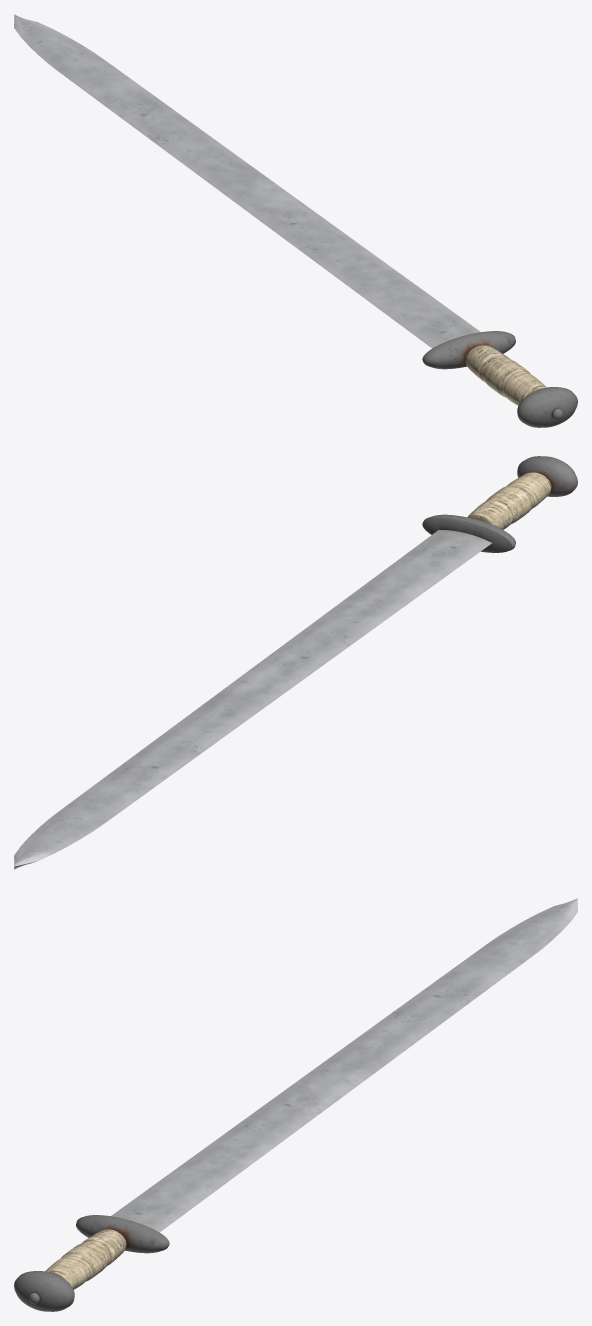
Rendered from spatha.glb.
The picture shows the model from 3 angles, top to bottom: view 1: azimuth 30°, elevation 25°; view 2: azimuth 150°, elevation 25°; view 3: azimuth 330°, elevation 25°; orthographic projection.
Visible parts, largest first — view 1: spatha; view 2: spatha; view 3: spatha.
Boxes of the visible parts, x1,y1,x2,y2 form: spatha: [14, 14, 577, 427]; spatha: [14, 456, 577, 869]; spatha: [14, 898, 577, 1311].
Bounding box in the file's own units: 0.089 × 0.0332 × 0.913.
1 material, 1 textured.
